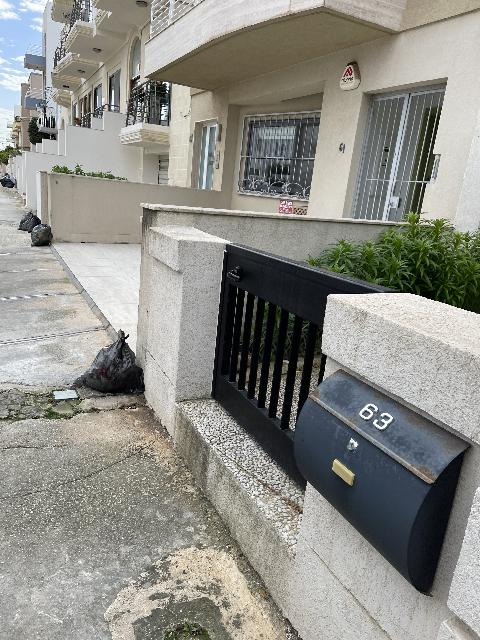Mixed -Black-: (74, 330, 144, 393), (31, 224, 53, 246), (18, 211, 41, 232), (0, 173, 16, 188)
